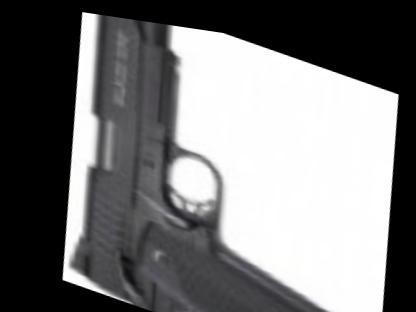pistol: (23, 2, 401, 311)
